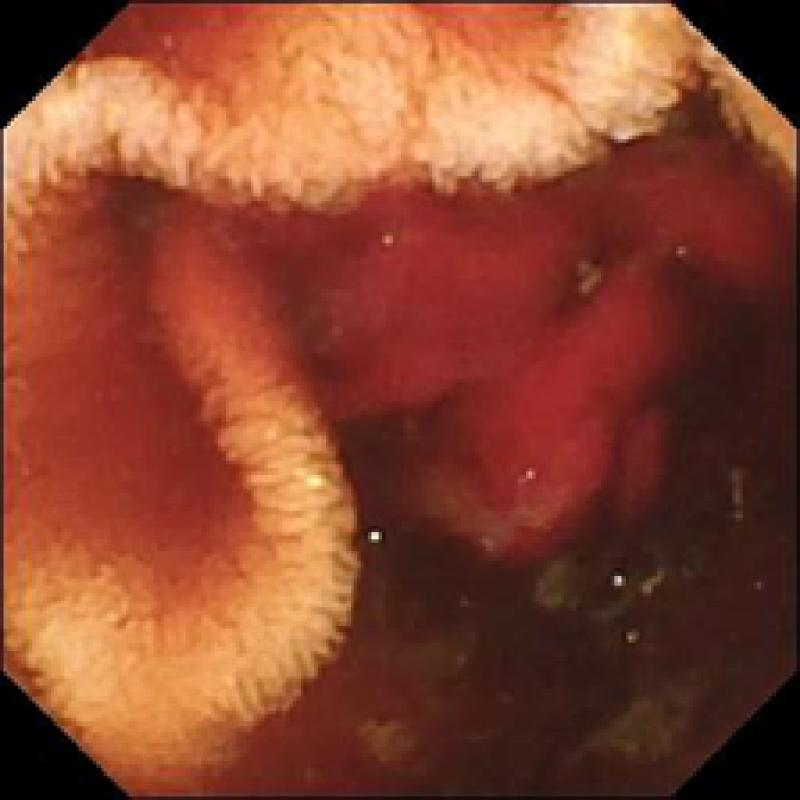bleeding: (250, 114, 793, 575)
